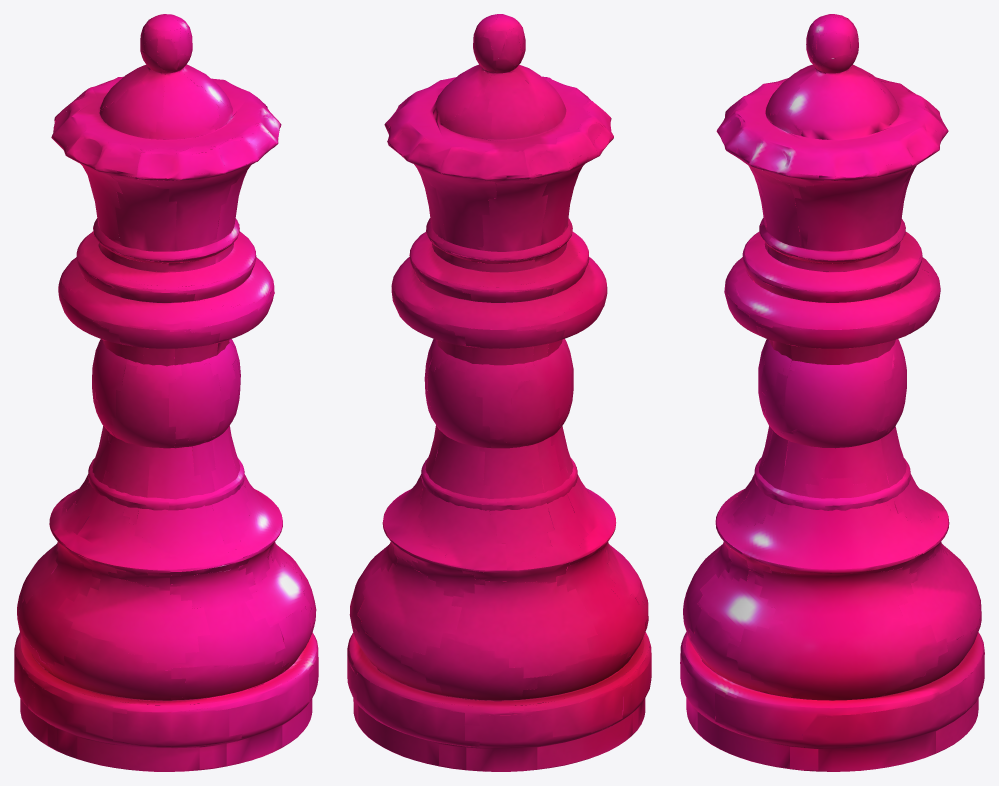
The model's file is queen.glb.
3 views of the same model, side by side, from view 1: azimuth 30°, elevation 25°; view 2: azimuth 150°, elevation 25°; view 3: azimuth 270°, elevation 25° (orthographic).
Visible parts, largest first — view 1: Object001.003, Object001; view 2: Object001.003, Object001; view 3: Object001.003, Object001.
Boxes of the visible parts, box(x1,y1,x2,y2) form: Object001.003: box(14, 14, 318, 771); Object001: box(45, 302, 286, 746); Object001.003: box(347, 14, 651, 771); Object001: box(378, 302, 617, 746); Object001.003: box(680, 14, 984, 771); Object001: box(715, 302, 953, 748).
Bounding box in the file's own units: 4.24 × 10.67 × 4.25.
Materials: 2 (2 with a texture image).
